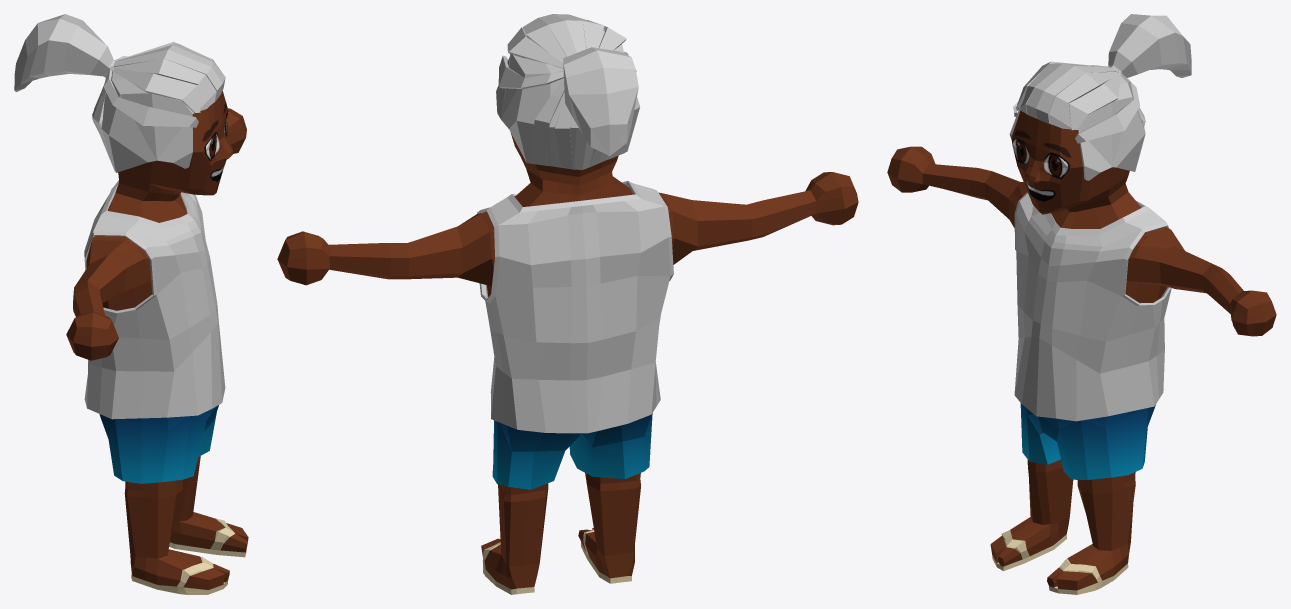
Rendered from PP_Princ__Final.fbx.
3 renders of one model, left to right at view 1: azimuth 30°, elevation 25°; view 2: azimuth 150°, elevation 25°; view 3: azimuth 270°, elevation 25°, orthographic. The views are drawn at different scales.
Visible parts, largest first — view 1: corpo, camisa, cabelo, short, Circle; view 2: camisa, corpo, cabelo, short, Circle; view 3: corpo, camisa, cabelo, short, Circle.
Boxes of the visible parts, x1,y1,x2,y2 form: corpo: [66, 91, 248, 594]; camisa: [84, 180, 225, 419]; cabelo: [92, 42, 225, 172]; short: [99, 405, 218, 483]; Circle: [14, 14, 115, 91]; camisa: [477, 181, 673, 433]; corpo: [277, 61, 858, 594]; cabelo: [496, 14, 639, 169]; short: [492, 413, 652, 489]; Circle: [563, 47, 638, 155]; corpo: [887, 110, 1276, 594]; camisa: [1014, 192, 1171, 421]; cabelo: [1009, 61, 1145, 180]; short: [1020, 403, 1155, 479]; Circle: [1108, 14, 1191, 77].
Bounding box in the file's own units: 911 × 1325 × 911.
